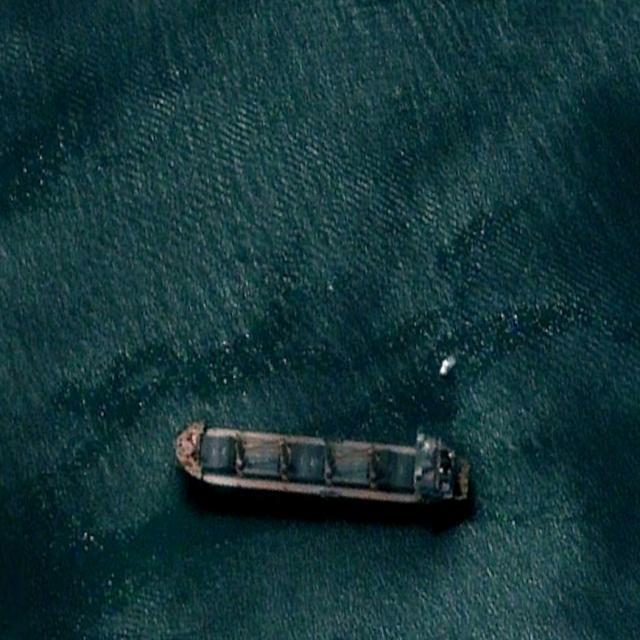Cargo: (170, 417, 474, 509)
